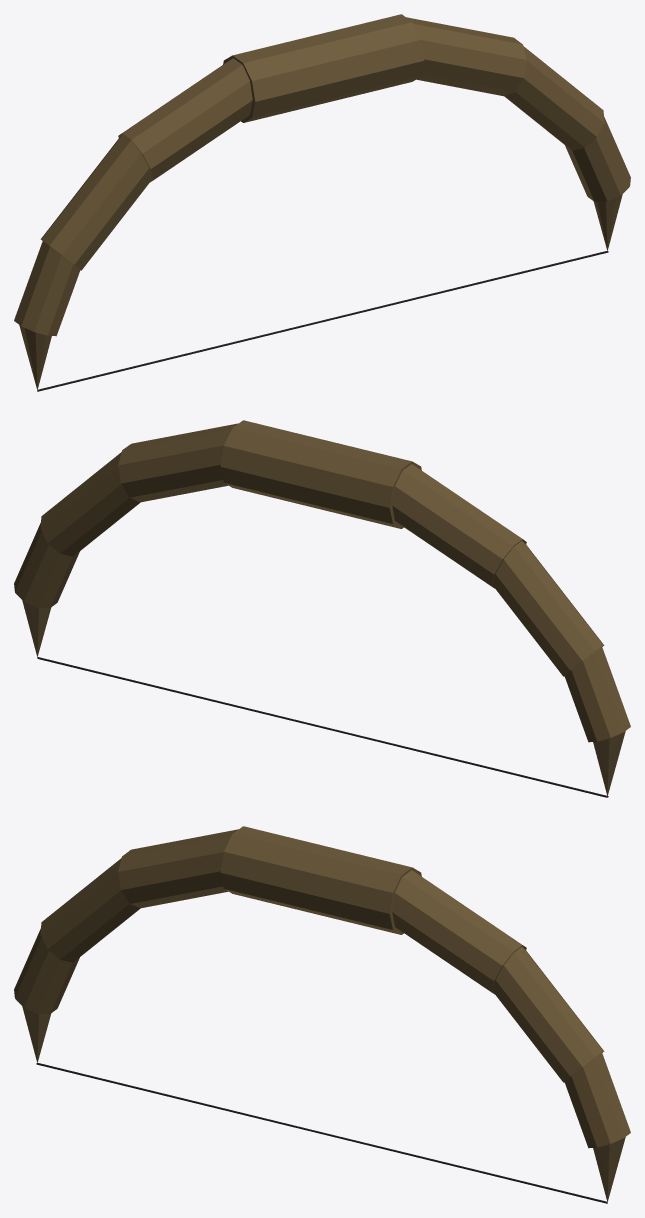
The model's file is bow.fbx.
The picture shows the model from 3 angles, top to bottom: view 1: azimuth 30°, elevation 25°; view 2: azimuth 150°, elevation 25°; view 3: azimuth 330°, elevation 25°; orthographic projection.
Visible parts, largest first — view 1: Body, String; view 2: Body, String; view 3: Body, String.
Boxes of the visible parts, bbox=[...] form: Body: bbox=[14, 14, 630, 389]; String: bbox=[37, 251, 608, 391]; Body: bbox=[14, 420, 630, 796]; String: bbox=[37, 657, 608, 797]; Body: bbox=[14, 826, 630, 1201]; String: bbox=[36, 1063, 607, 1203].
Bounding box in the file's own units: 355 × 158 × 35.03.
